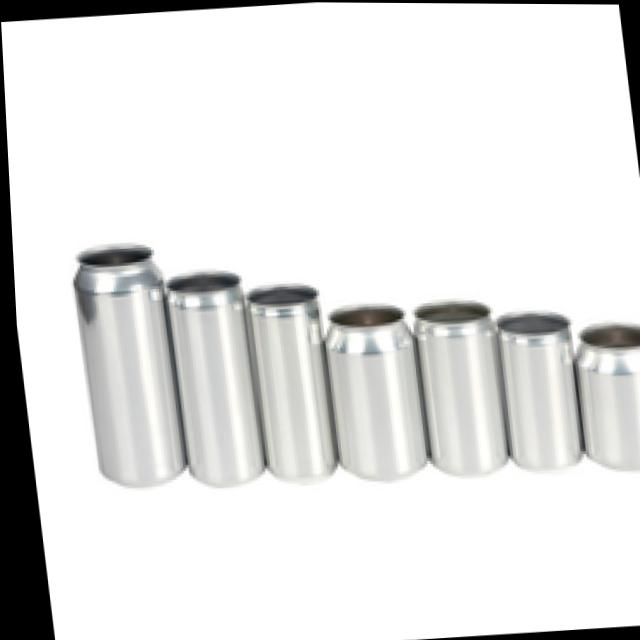aluminum_soda_cans: (65, 241, 181, 482), (156, 265, 260, 487), (405, 293, 510, 481), (320, 293, 422, 479), (243, 277, 334, 480), (495, 302, 577, 479), (569, 312, 640, 470)
